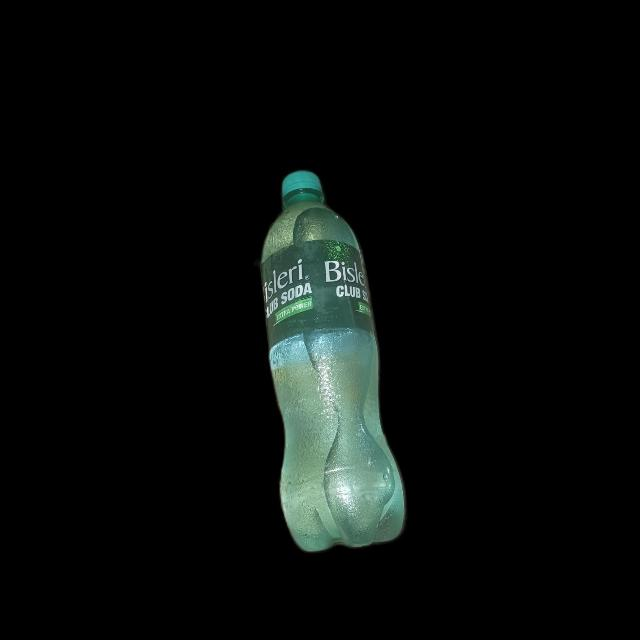Bisleri Club Soda - 750 ml: (252, 172, 416, 550)
